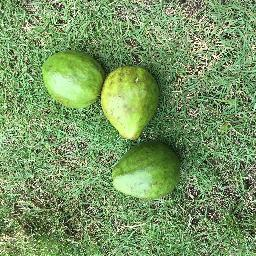Good_guava: (107, 141, 180, 204), (99, 62, 156, 139), (41, 44, 102, 109)
